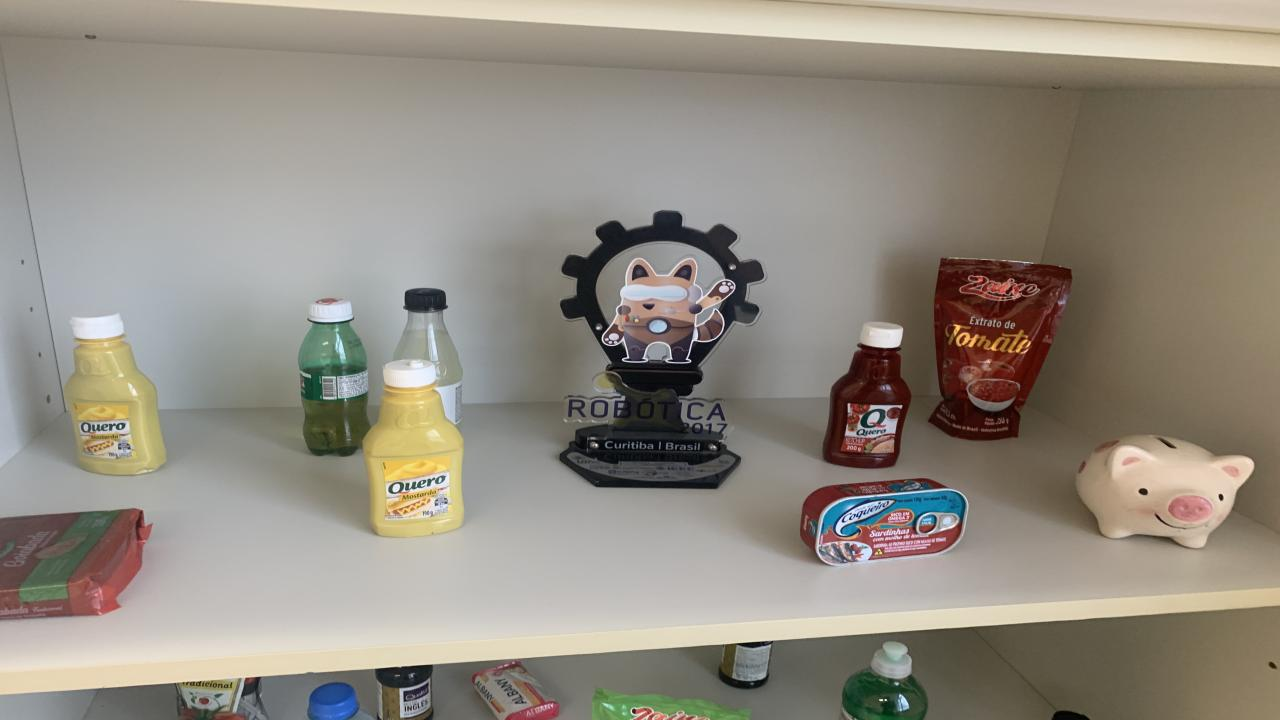Detergent-Cleanup_Items: (842, 641, 928, 720)
English_Sauce-Pantry_Items: (375, 666, 432, 720), (718, 641, 772, 688)
Guarana-Drinks: (298, 298, 370, 456)
Guava-Snacks: (0, 508, 150, 619)
Ketchup-Pantry_Items: (822, 322, 910, 469)
Mustard-Pantry_Items: (362, 360, 465, 536), (62, 315, 168, 474)
Pig_Safe-Miscellaneous: (1075, 435, 1255, 548)
Soap-Cleanup_Items: (472, 660, 560, 720)
Soda-Drinks: (392, 287, 462, 426)
Tomato_Sauce-Pantry_Items: (930, 259, 1072, 441), (592, 688, 750, 720), (175, 677, 268, 720)
Trophy-Miscellaneous: (560, 212, 765, 488)
Tuna_Can-Pantry_Items: (802, 478, 968, 566)
